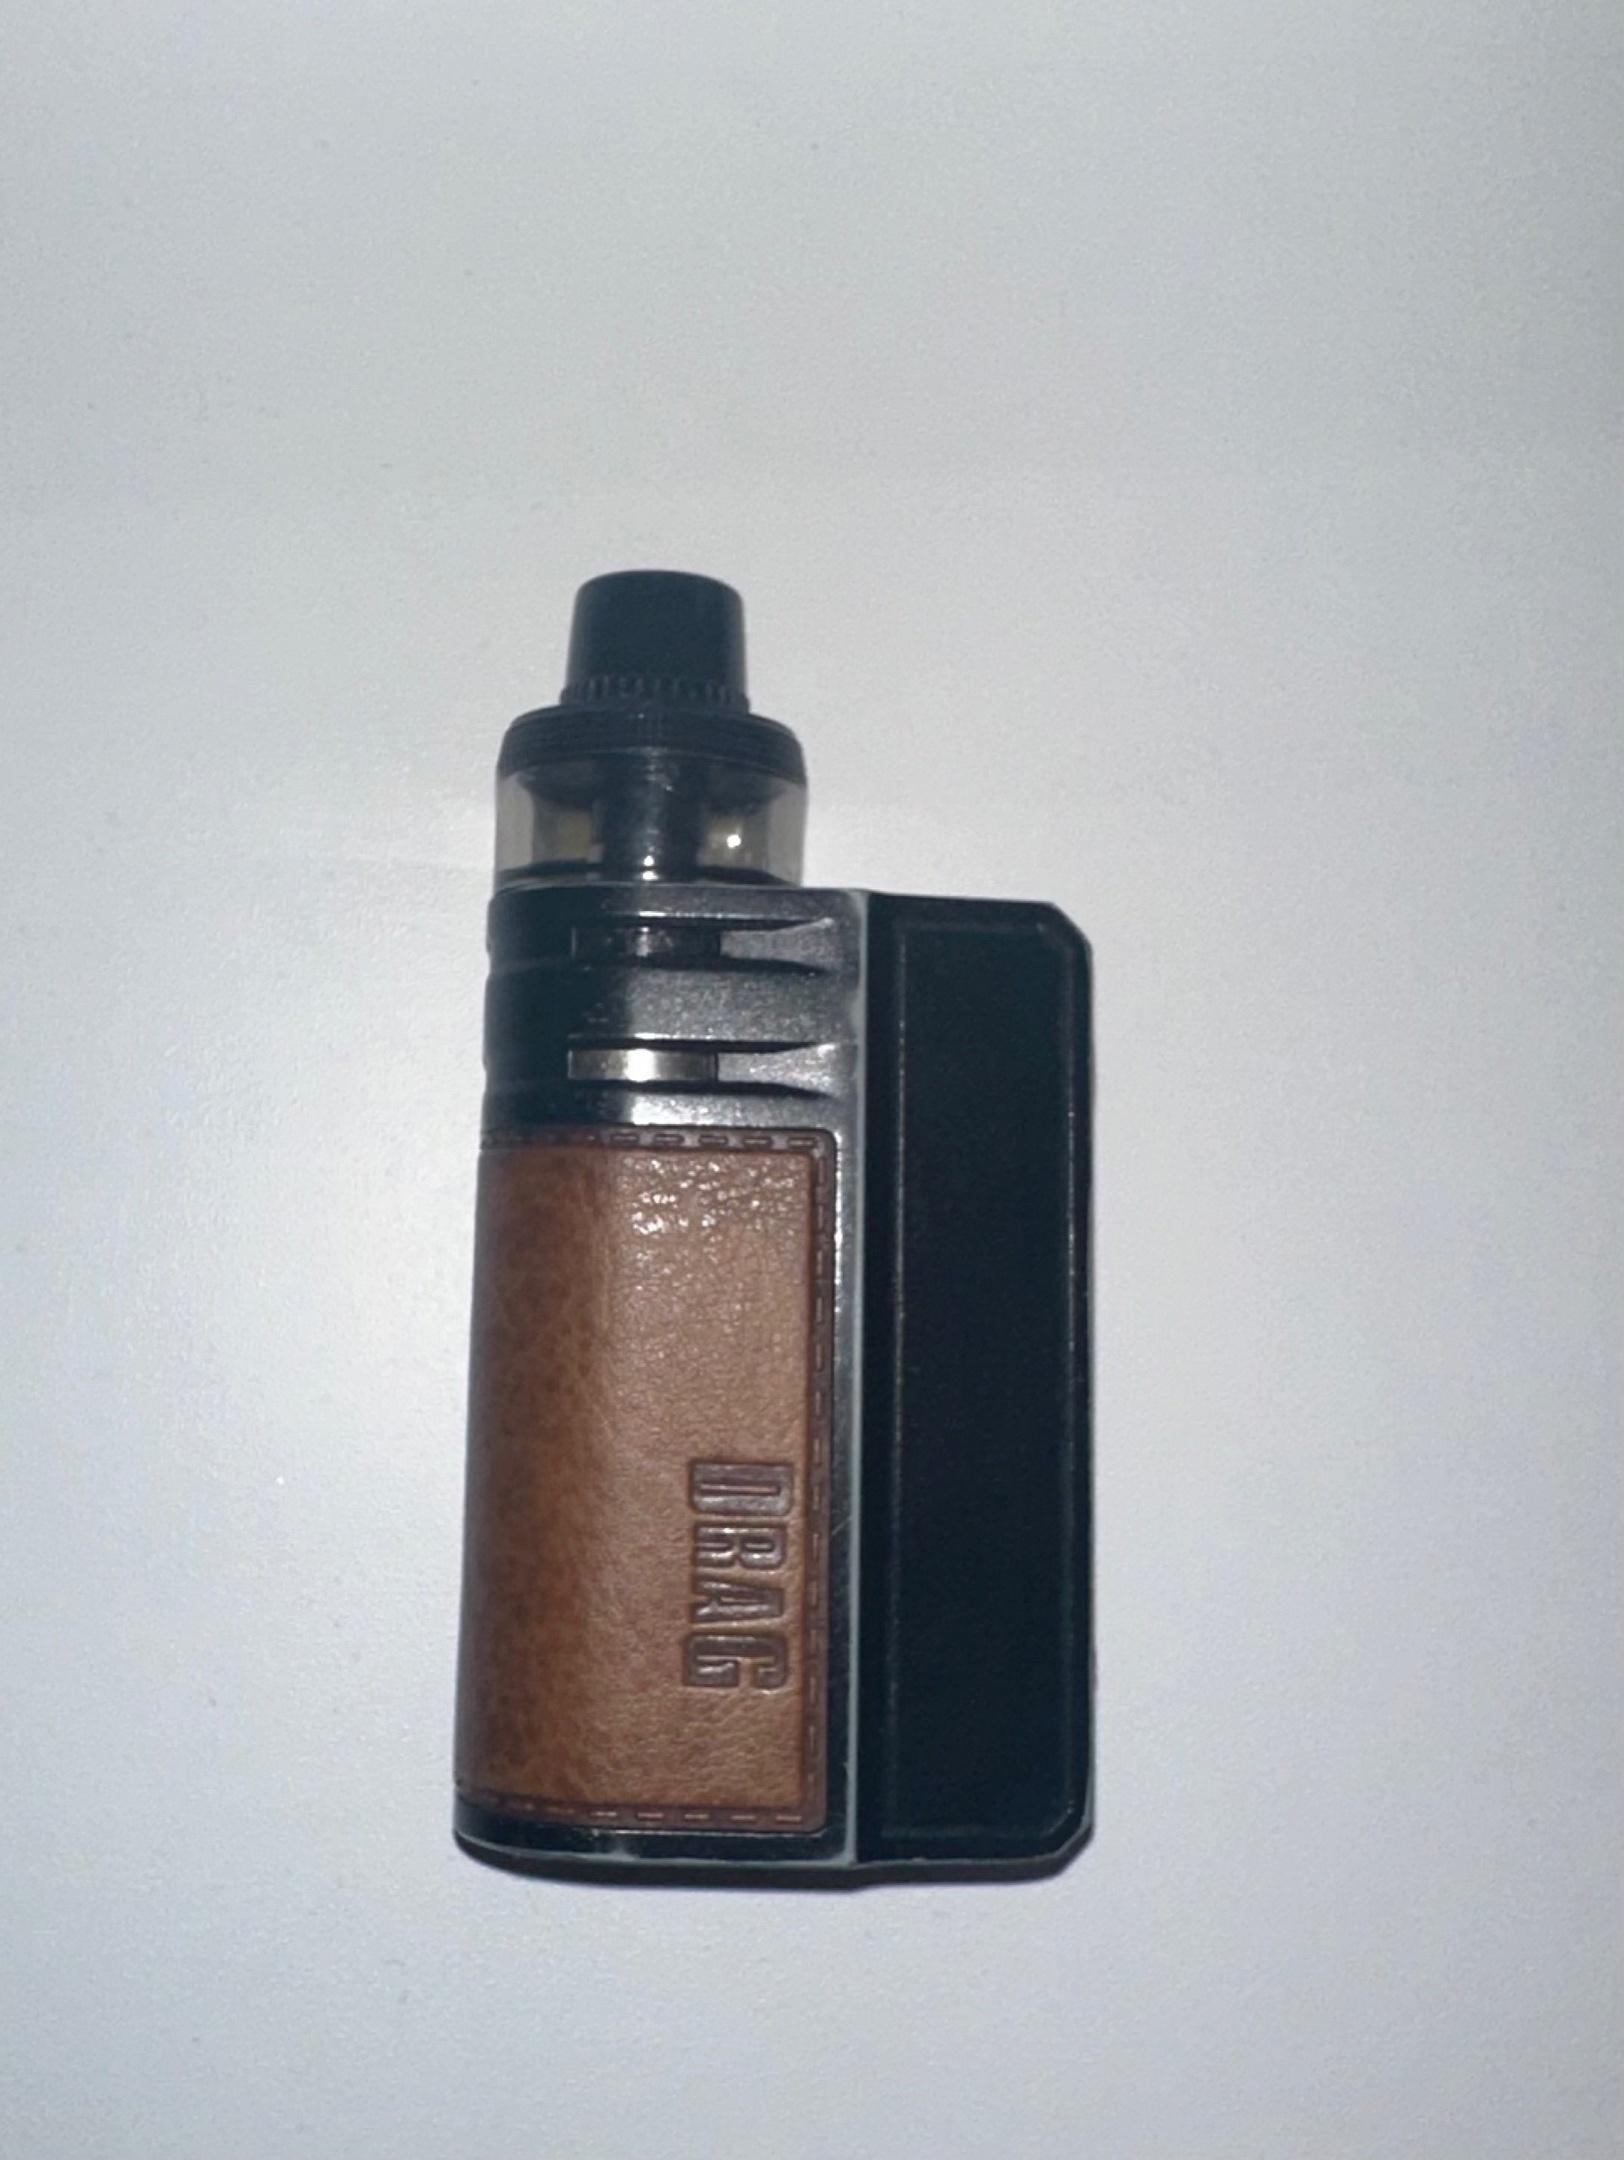Vape: (455, 572, 1088, 1885)
